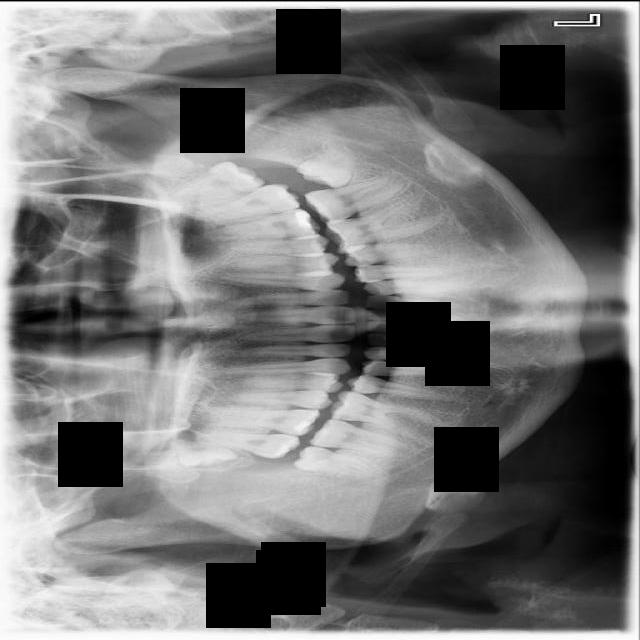3M ESPE Implant: (172, 428, 238, 467)
52: (251, 423, 304, 468), (273, 206, 321, 240), (278, 407, 321, 436), (335, 410, 356, 421)
73: (612, 10, 618, 16)
BioHorizons Implant: (190, 179, 303, 225)
BioLife Implant: (163, 152, 268, 210)
Biomet 3i Implant: (294, 132, 368, 204)
Blue Sky Bio Implant: (303, 170, 412, 229)
Caries: (190, 426, 301, 460)
Implant: (309, 415, 414, 460)
Keystone Dental Implant: (293, 442, 389, 482)
